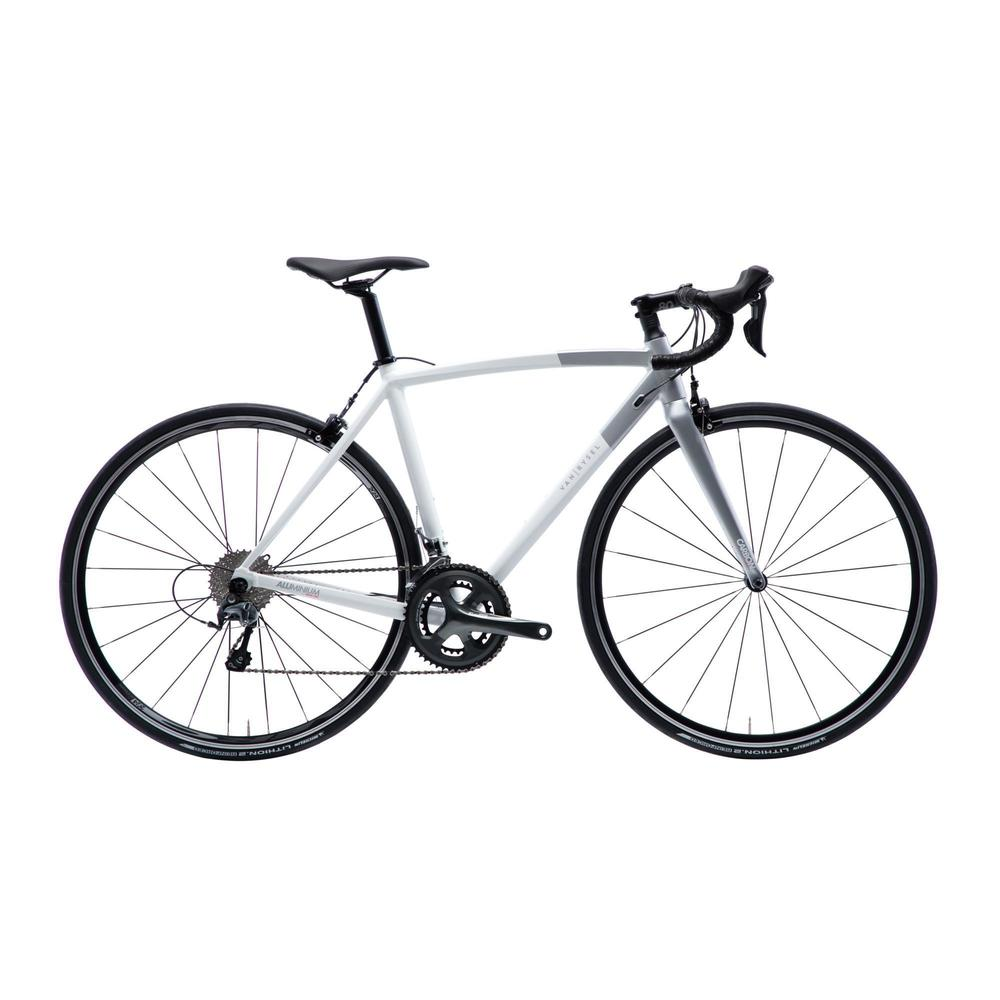RoadBike: (67, 250, 932, 767)
